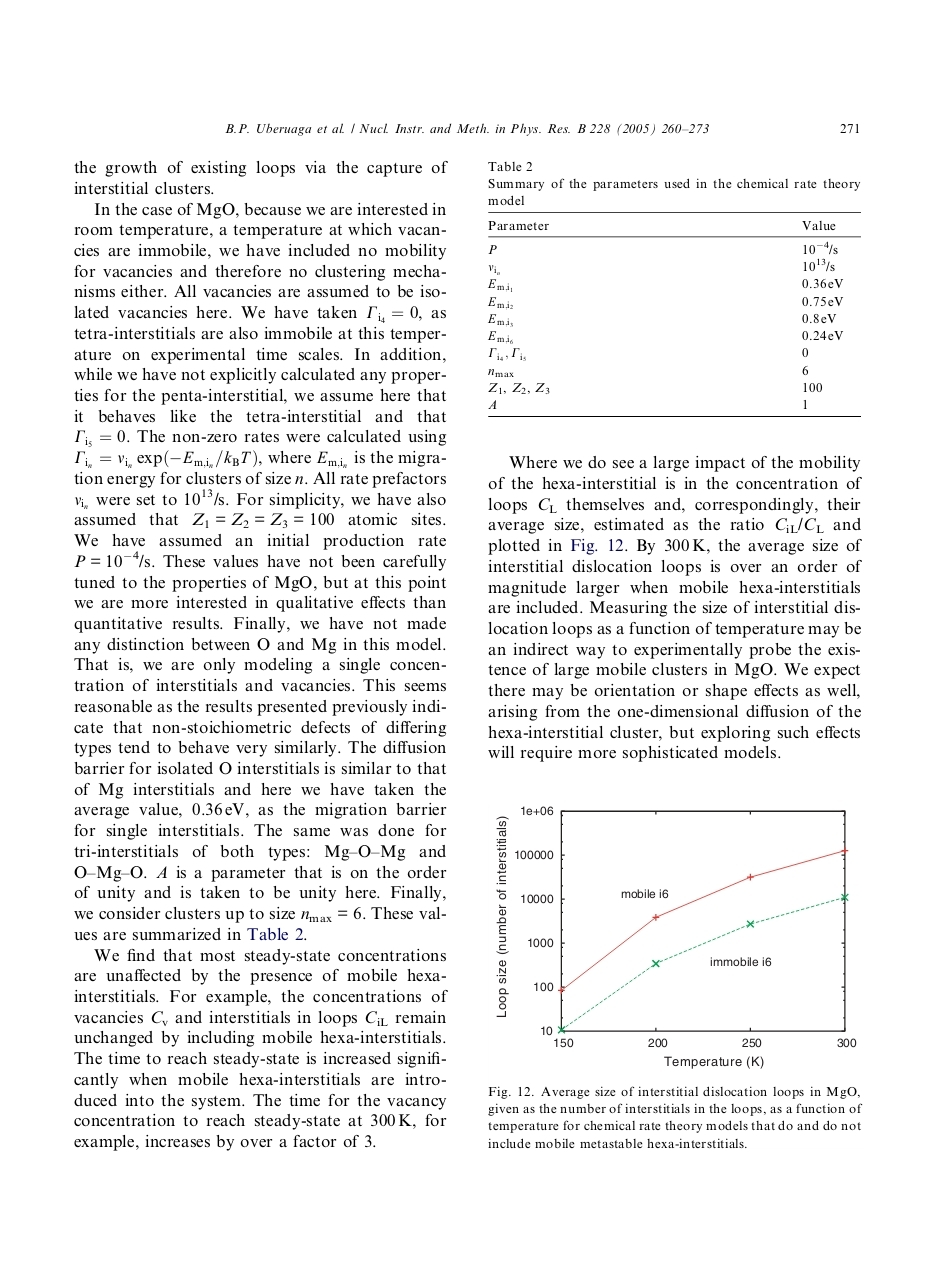Table: (487, 212, 860, 416)
figure: (496, 806, 856, 1068)
